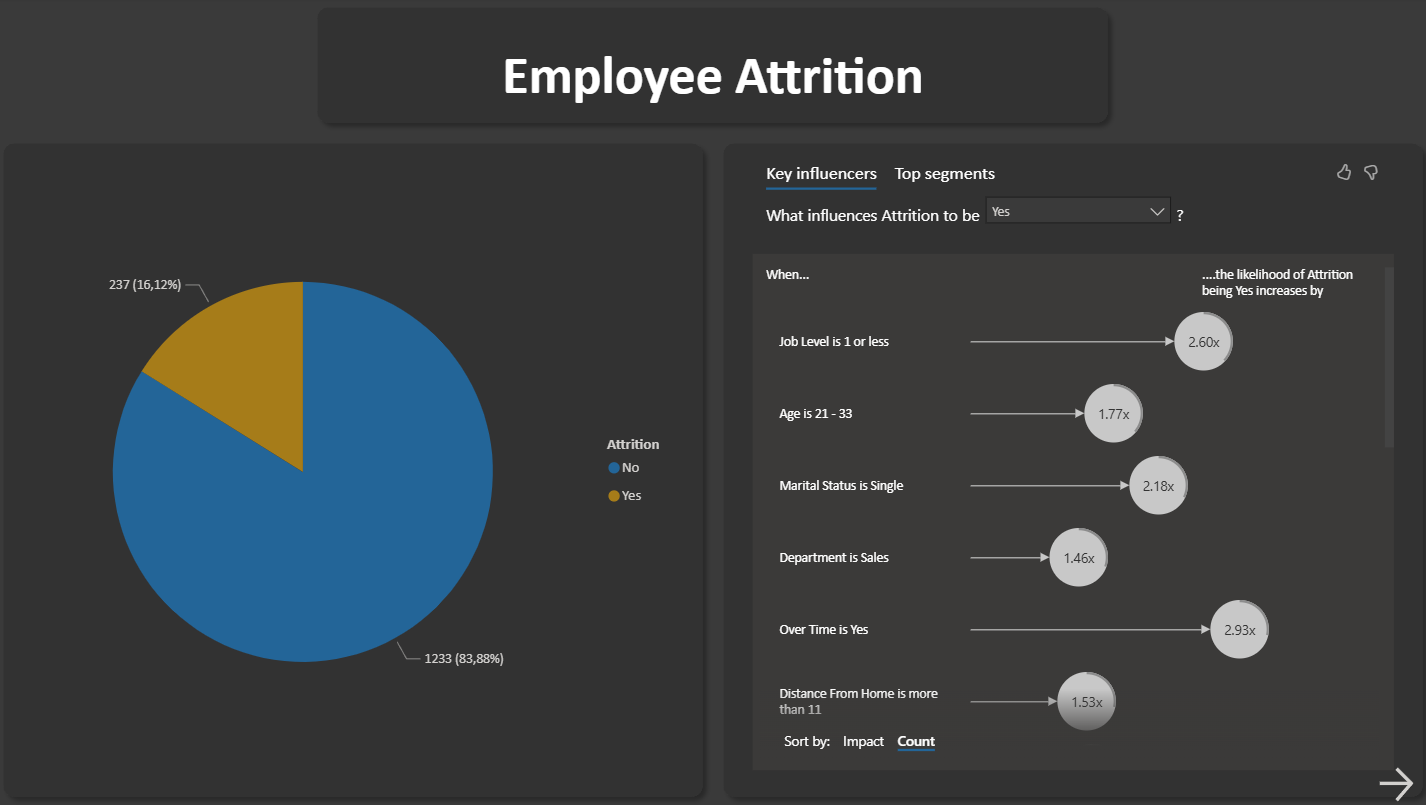

Layout of this report page (visuals, bound fields, positions):
{"tool":"powerbi","page":{"name":"Total attrition","canvas":[1280,720],"ordinal":0},"visuals":[{"type":"group","id":"g1","title":"Background","box":[0,0,1280,720.1],"z":500},{"type":"pieChart","title":"Attrition","fields":{"Y":["_Mesaures.Total Number of Employees"],"Category":["HR-Employee-Attrition.Attrition"]},"box":[0,133.6,618.9,577.6],"z":1000},{"type":"textbox","box":[0,0,1280,133.3],"z":2000},{"type":"actionButton","box":[1226.7,680,53.3,40],"z":3000},{"type":"keyDriversVisual","fields":{"Target":["HR-Employee-Attrition.Attrition"],"ExplainBy":["HR-Employee-Attrition.Education","HR-Employee-Attrition.Department","HR-Employee-Attrition.BusinessTravel","HR-Employee-Attrition.EnvironmentSatisfaction","HR-Employee-Attrition.Gender","HR-Employee-Attrition.JobInvolvement","HR-Employee-Attrition.JobRole","HR-Employee-Attrition.JobSatisfaction","HR-Employee-Attrition.MaritalStatus","HR-Employee-Attrition.OverTime","HR-Employee-Attrition.PerformanceRating","HR-Employee-Attrition.RelationshipSatisfaction"]},"box":[670,133.6,579.6,559],"z":4000},{"type":"shape","box":[0,120.9,640,599.1],"z":5000,"group":"g1"},{"type":"shape","box":[640,120.9,640,599.1],"z":6000,"group":"g1"},{"type":"shape","box":[279.1,0,720.9,120.9],"z":6500,"group":"g1"}]}

Visuals, with their boxes in screenshot pixels (x1, y1, x2, y2), scaled from the page's 1280x720 canvas onto the 1426x805 screenshot:
"Background" group: crop(0, 0, 1425, 804)
"Attrition" pieChart: crop(0, 149, 689, 795)
textbox: crop(0, 0, 1425, 149)
actionButton: crop(1367, 760, 1425, 804)
keyDriversVisual - HR-Employee-Attrition.Attrition x HR-Employee-Attrition.Education: crop(746, 149, 1392, 774)
shape: crop(0, 135, 713, 804)
shape: crop(713, 135, 1425, 804)
shape: crop(311, 0, 1114, 135)
